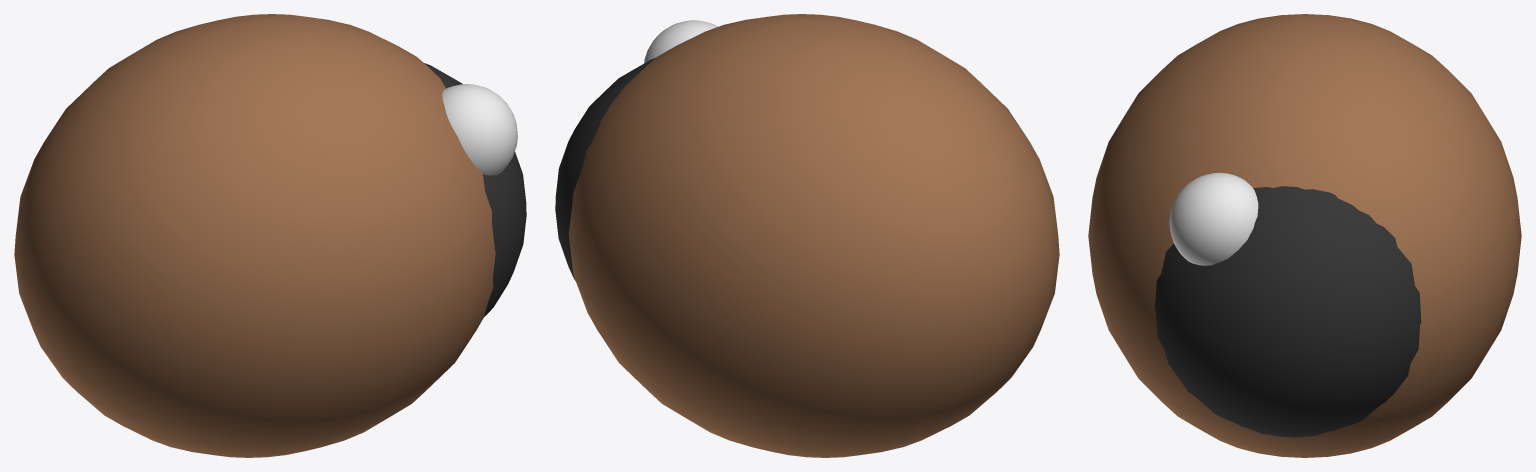
The model's file is schmitty small eye.dae.
3 views of the same model, side by side, from view 1: azimuth 30°, elevation 25°; view 2: azimuth 150°, elevation 25°; view 3: azimuth 270°, elevation 25° (orthographic).
Parts seen in each view (by area): view 1: Sphere, Sphere_002, Sphere_001; view 2: Sphere, Sphere_001, Sphere_002; view 3: Sphere, Sphere_001, Sphere_002.
Part boxes in pixels (<box>): Sphere: <box>14,14,495,457</box>; Sphere_002: <box>442,84,517,175</box>; Sphere_001: <box>424,63,526,316</box>; Sphere: <box>568,14,1059,457</box>; Sphere_001: <box>555,58,655,280</box>; Sphere_002: <box>644,20,717,63</box>; Sphere: <box>1088,14,1521,457</box>; Sphere_001: <box>1154,186,1421,437</box>; Sphere_002: <box>1169,172,1258,265</box>.
Bounding box in the file's own units: 0.3147 × 0.26 × 0.26.
